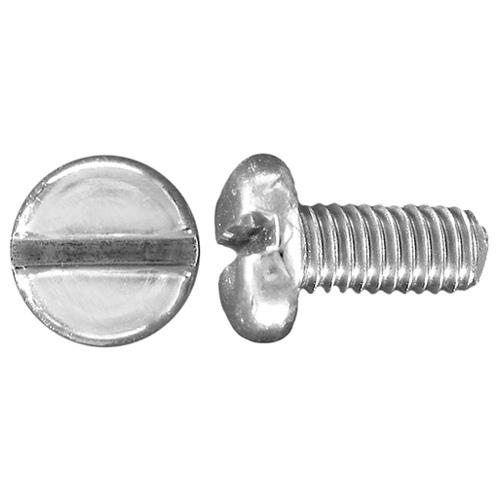slotted: (17, 154, 195, 345)
